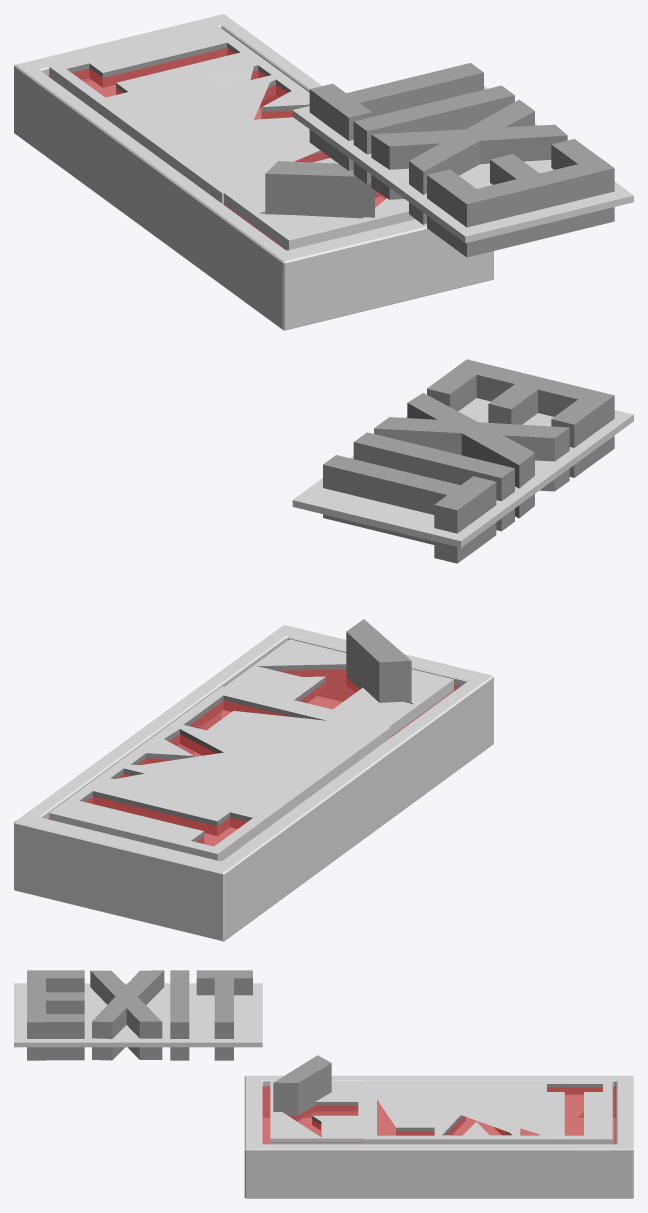
File: ExitLEFT.fbx
3 views of the same model, one above another, from view 1: azimuth 30°, elevation 25°; view 2: azimuth 150°, elevation 25°; view 3: azimuth 270°, elevation 25° (orthographic). The views are drawn at different scales.
Visible parts, largest first — view 1: polySurface28, polySurface21, polySurface2, pCube1, polySurface5, polySurface32, polySurface40, polySurface7, polySurface8, polySurface6, polySurface10, polySurface26 (+5 smaller); view 2: polySurface28, polySurface21, polySurface40, pCube1, polySurface8, polySurface26, polySurface7, polySurface6, polySurface32, polySurface5, polySurface2, polySurface9 (+6 smaller); view 3: polySurface28, polySurface21, polySurface10, polySurface40, polySurface26, polySurface32, polySurface5, polySurface6, polySurface16, polySurface11, pCube1, polySurface7 (+10 smaller).
Part boxes in pixels (x1,y1,x2,y2): polySurface28: (14,14,493,330); polySurface21: (49,25,337,204); polySurface2: (453,158,614,257); pCube1: (292,86,633,243); polySurface5: (371,124,567,199); polySurface32: (265,161,374,218); polySurface40: (224,183,415,250); polySurface7: (353,85,514,184); polySurface8: (323,63,483,161); polySurface6: (409,99,534,224); polySurface10: (294,87,633,242); polySurface26: (72,47,386,207); polySurface28: (14,625,493,941); polySurface21: (49,686,390,861); polySurface40: (225,639,453,736); pCube1: (292,398,633,547); polySurface8: (323,455,483,553); polySurface26: (85,669,359,846); polySurface7: (353,432,514,531); polySurface6: (374,417,569,491); polySurface32: (346,619,411,703); polySurface5: (407,393,534,518); polySurface2: (454,359,614,457); polySurface9: (434,476,496,563); polySurface28: (244,1075,633,1198); polySurface21: (364,1080,612,1144); polySurface10: (14,983,262,1047); polySurface40: (270,1081,363,1144); polySurface26: (271,1087,602,1142); polySurface32: (273,1055,331,1120); polySurface5: (92,970,164,1060); polySurface6: (90,970,162,1059); polySurface16: (18,984,262,1042); polySurface11: (14,983,262,1042); pCube1: (14,983,262,1047); polySurface7: (170,970,189,1060).
Size of the model in its own units: 4.15 by 4.33 by 14.66.
